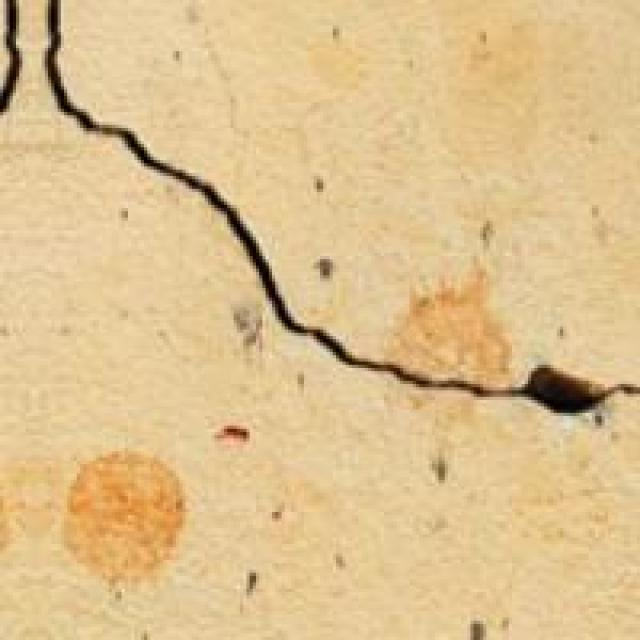Crack: (0, 0, 637, 435)
